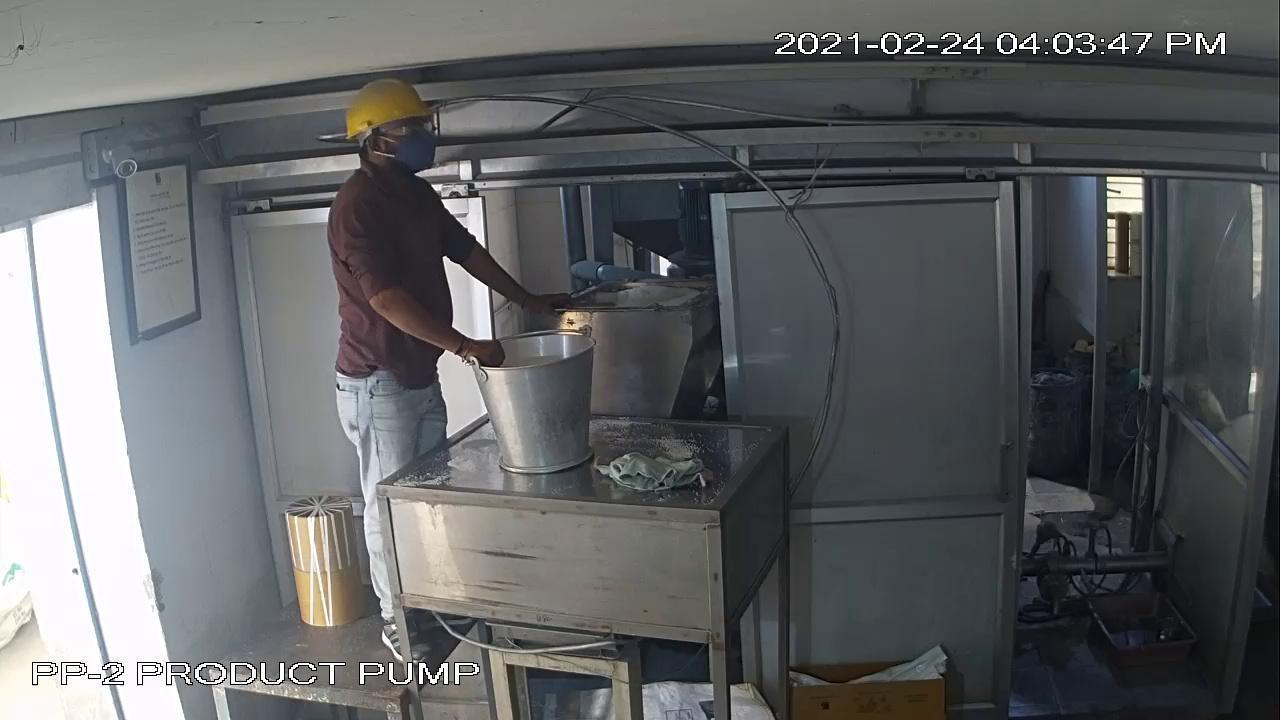helmet: (336, 73, 439, 151)
